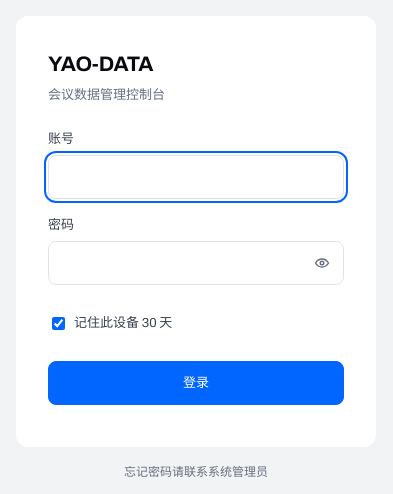
Test: 登录页：提交与报错 › 提交错误凭据后显示统一错误文案，报错行不改变表单的 DOM 结构（不跳动）
Step 1. Type "chen.yw" into the field labelled "账号" → coordinates (196, 177), box x1=48 y1=155 x2=344 y2=199
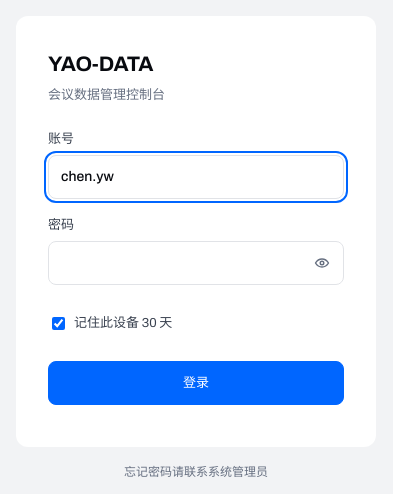
Step 2. Type "wrong-password" into the password field labelled "密码" → coordinates (196, 263), box x1=48 y1=241 x2=344 y2=285
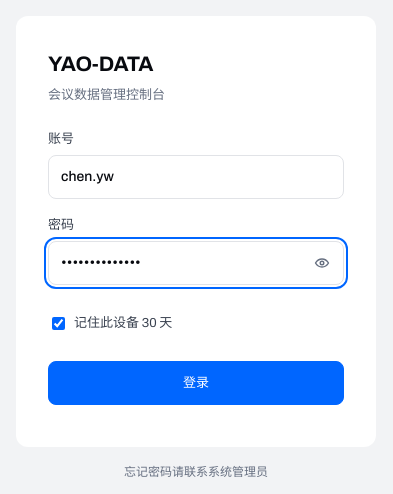
Step 3. Click the button "登录" → coordinates (196, 383), box x1=48 y1=361 x2=344 y2=405
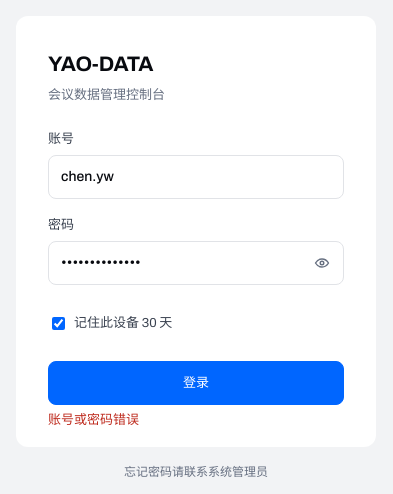
Now the message reads "账号或密码错误", box x1=48 y1=413 x2=139 y2=427
